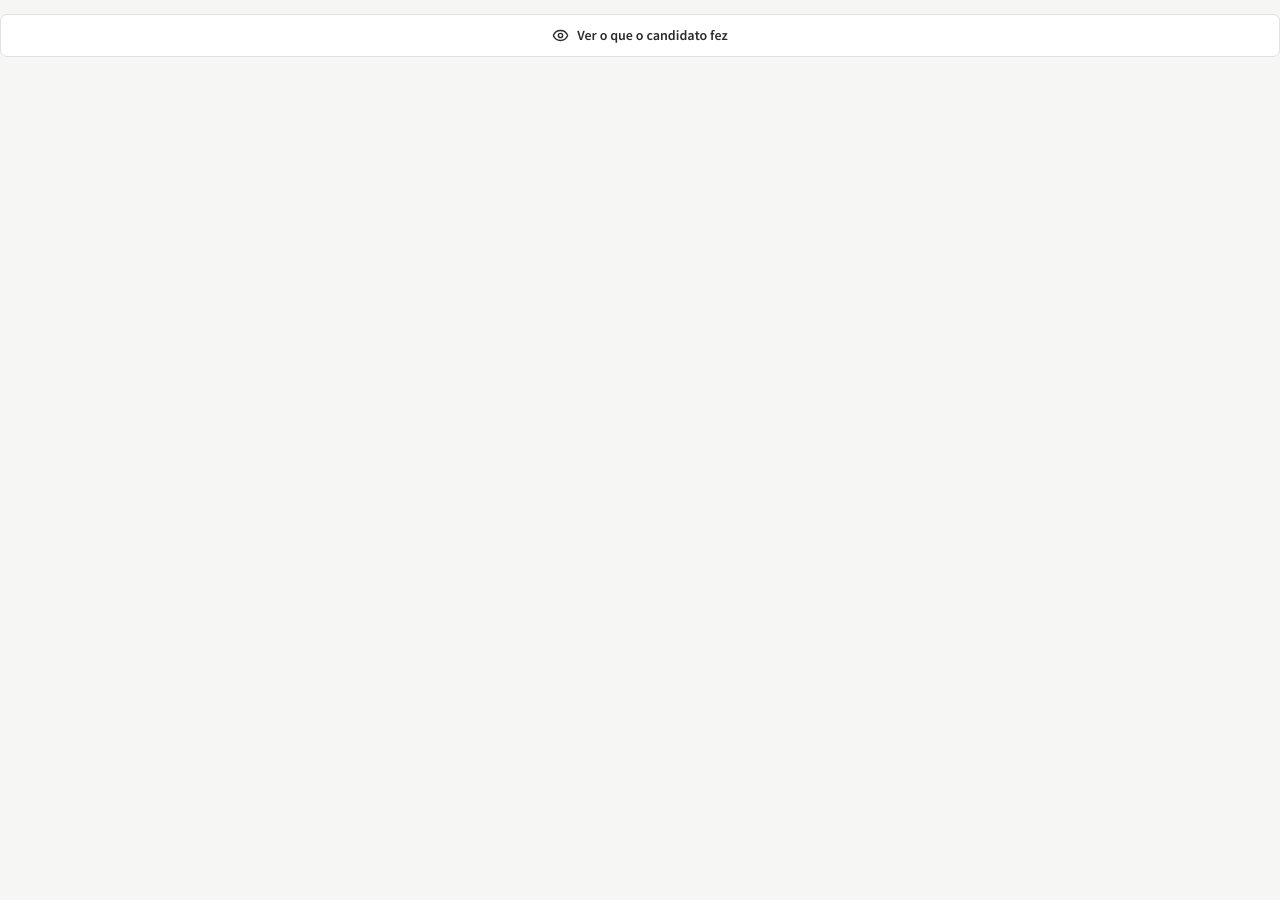
Test: loads the current candidature only when opened and shows actual submitted status
Click the button "Ver o que o candidato fez": (640, 36) [0,14,1279,57]
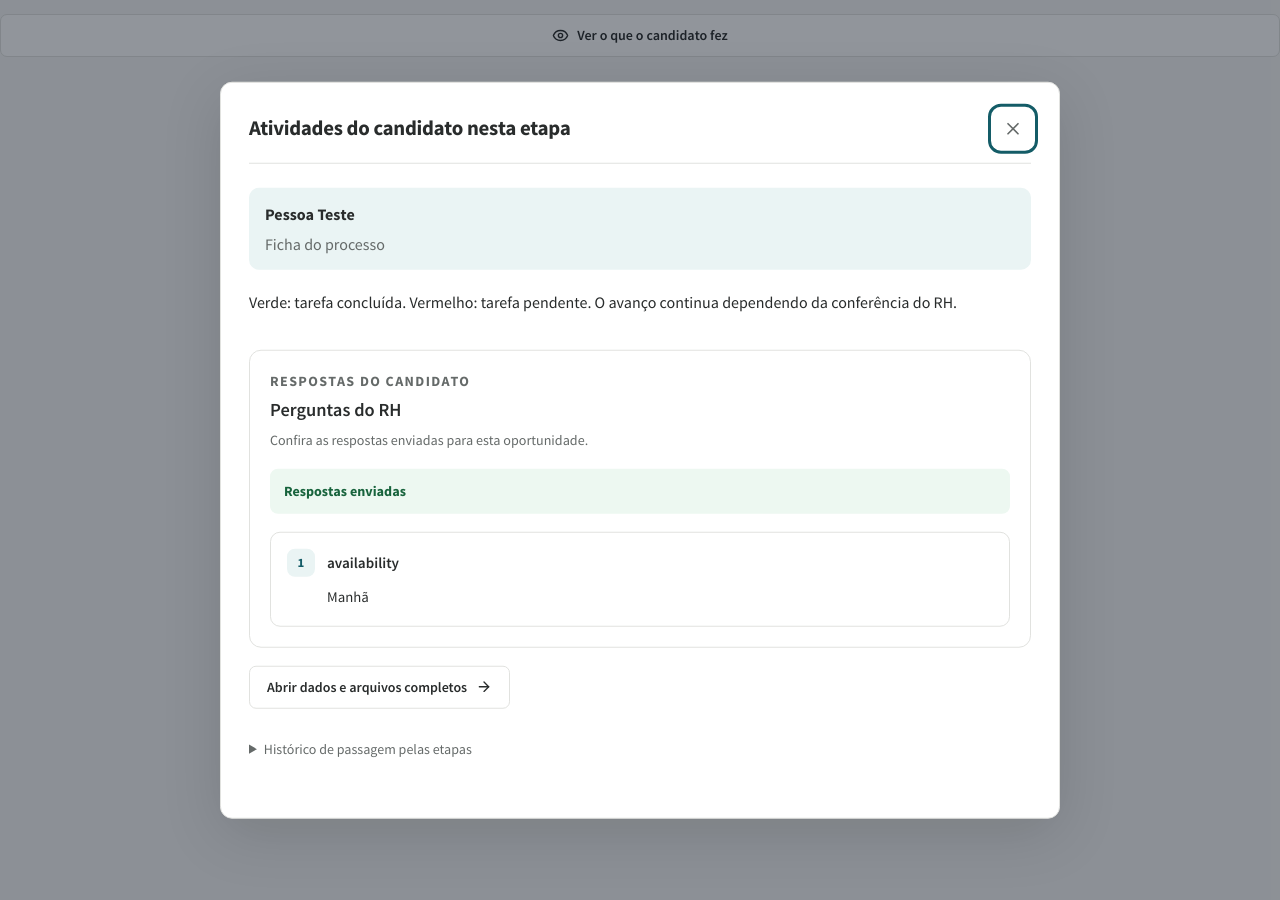
Expected: the text "Respostas enviadas" is shown, [284,481,406,502]
Expected: the text "Manhã" is shown, [327,587,369,605]
